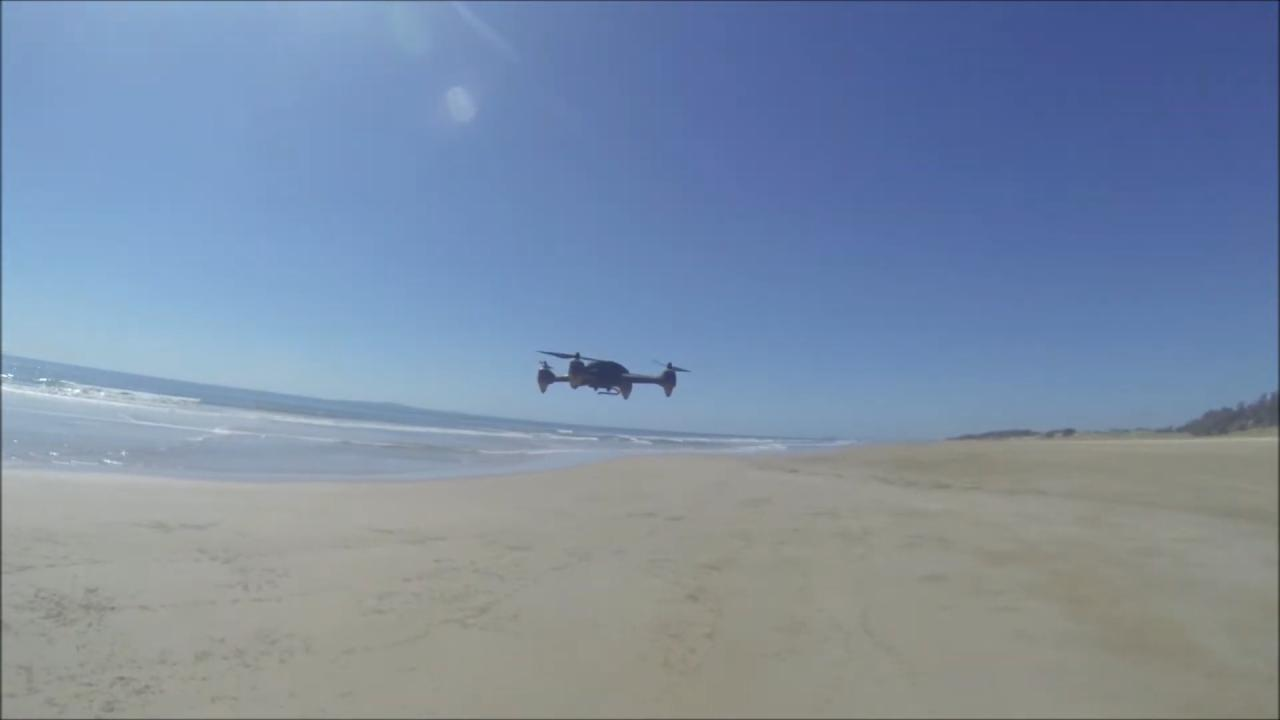Drone: (524, 334, 700, 414)
